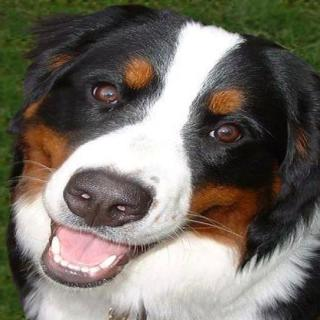dog: (6, 4, 320, 294)
nose: (61, 165, 153, 234)
